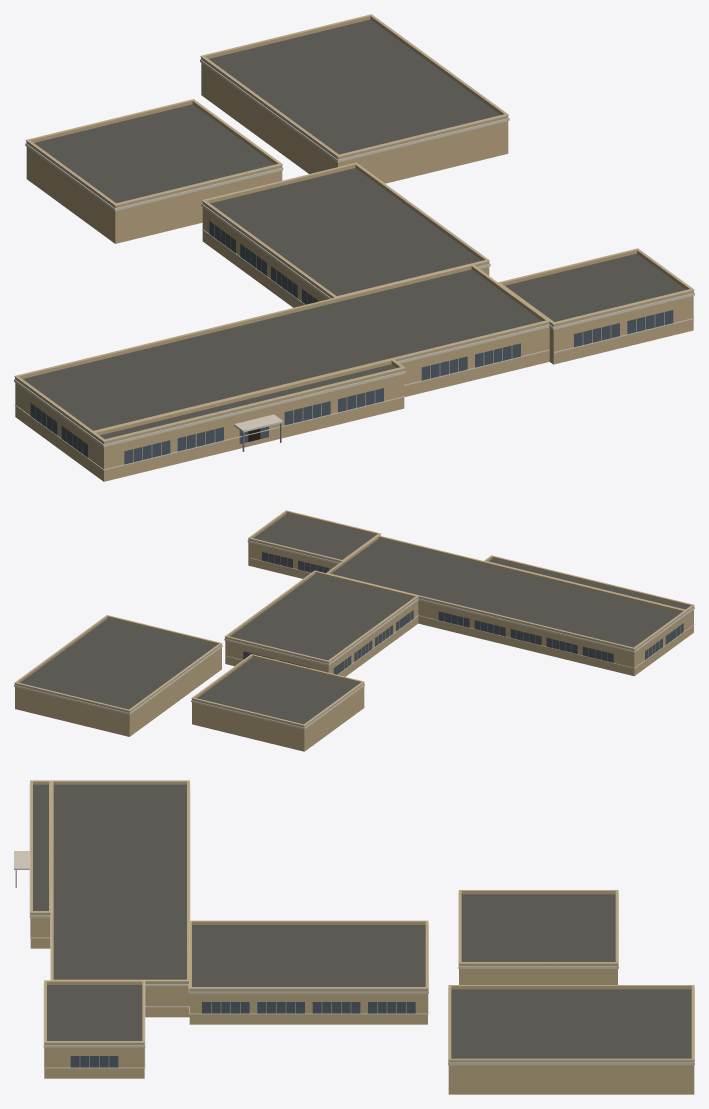
File: brady-elementary.glb
3 views of the same model, one above another, from view 1: azimuth 30°, elevation 25°; view 2: azimuth 150°, elevation 25°; view 3: azimuth 270°, elevation 25° (orthographic). The views are drawn at different scales.
Visible parts, largest first — view 1: brady_elementary; view 2: brady_elementary; view 3: brady_elementary.
Boxes of the visible parts, x1,y1,x2,y2 form: brady_elementary: (14,14,694,481); brady_elementary: (14,510,694,751); brady_elementary: (14,780,694,1094).
Size of the model in its own units: 95.74 by 5.87 by 98.52.
